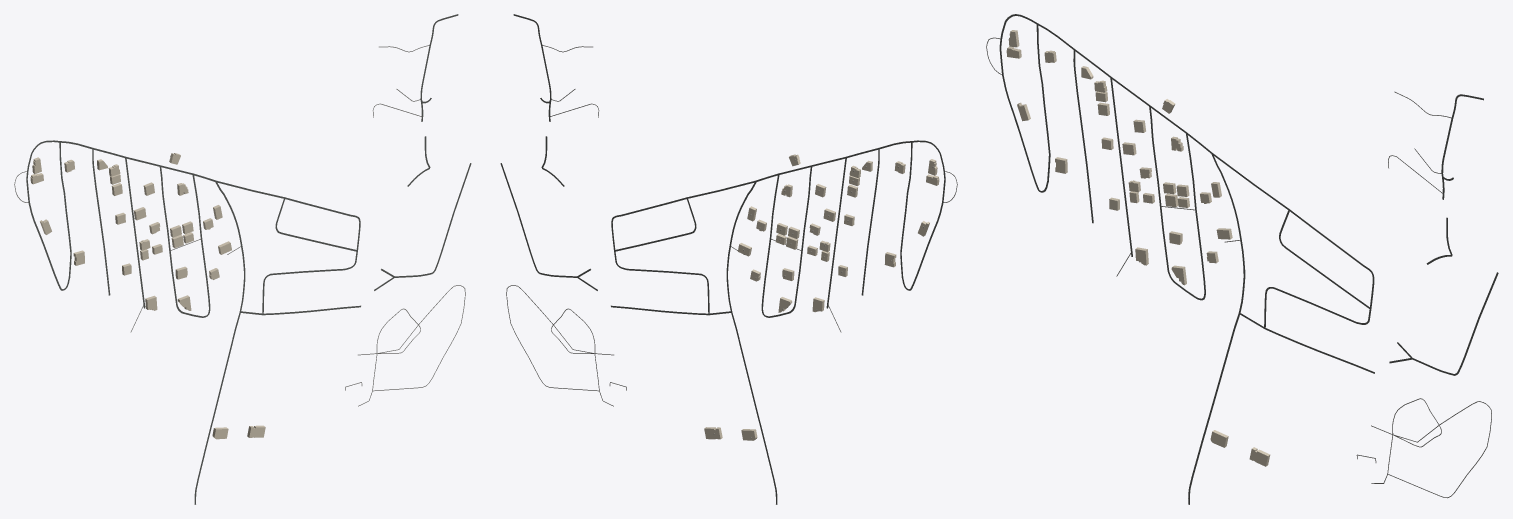
Rendered from amman_3591_3200_realistic.glb.
3 renders of one model, left to right at view 1: azimuth 30°, elevation 25°; view 2: azimuth 150°, elevation 25°; view 3: azimuth 330°, elevation 25°, orthographic. The views are drawn at different scales.
Parts seen in each view (by area): view 1: Road 4'19 E-E/ 'D.4E'F, Road 4'19 J2J/ (F -'*E; view 2: Road 4'19 E-E/ 'D.4E'F, Road 4'19 J2J/ (F -'*E; view 3: Road 4'19 E-E/ 'D.4E'F, Road 4'19 J2J/ (F -'*E.
Part boxes in pixels (x1,y1,x2,y2): Road 4'19 E-E/ 'D.4E'F: (31,140,360,314); Road 4'19 J2J/ (F -'*E: (194,182,245,504); Road 4'19 E-E/ 'D.4E'F: (611,140,940,313); Road 4'19 J2J/ (F -'*E: (726,181,777,504); Road 4'19 E-E/ 'D.4E'F: (1005,14,1374,328); Road 4'19 J2J/ (F -'*E: (1188,153,1245,504).
Size of the model in its own units: 954 by 851 by 8.7.
